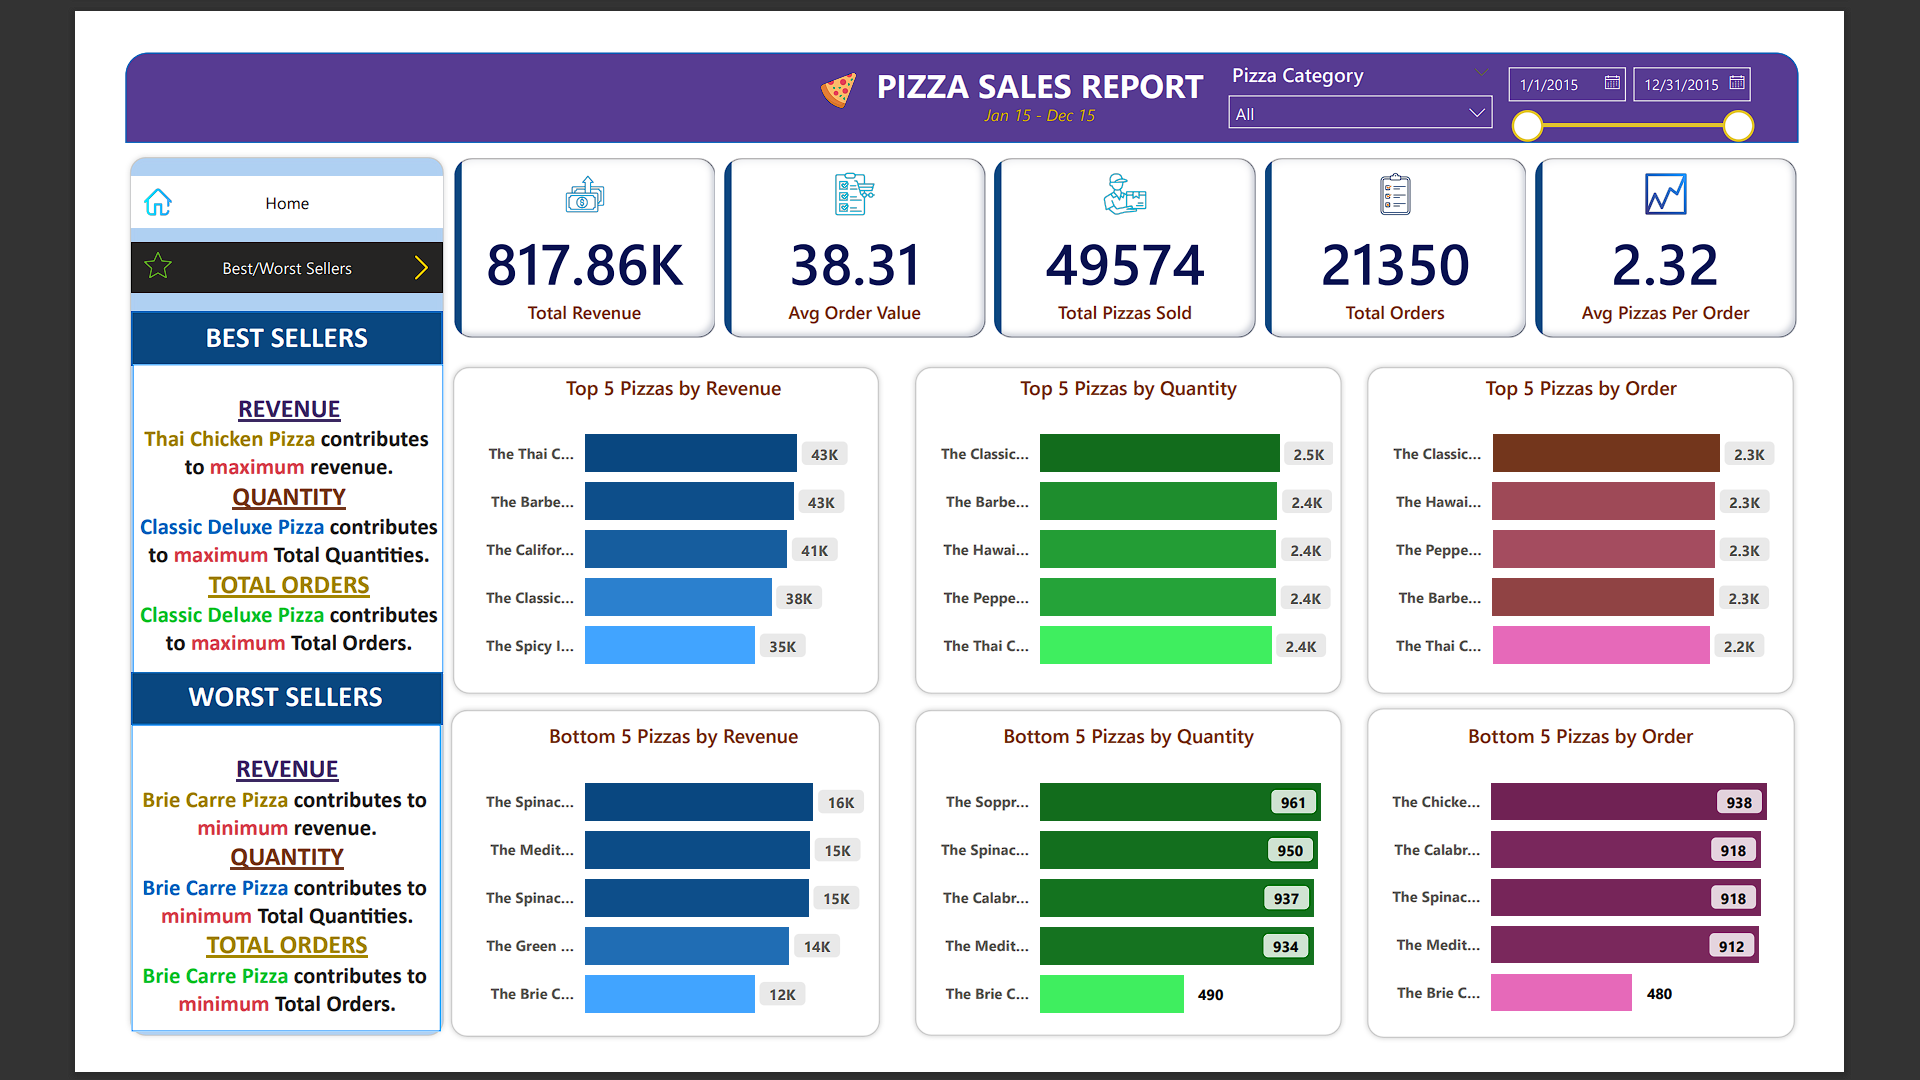

The dashboard page shown, as its layout file describes it:
{"tool":"powerbi","page":{"name":"Best/Worst Sellers","canvas":[1400,820],"ordinal":1},"visuals":[{"type":"shape","box":[18.3,91.7,263.3,726.7],"z":0},{"type":"cardVisual","fields":{"Data":["pizza_sales.Total Revenue","pizza_sales.Avg Order Value","pizza_sales.Total Pizzas Sold","pizza_sales.Total Orders","pizza_sales.Avg Pizzas Per Order"]},"box":[282.1,92.3,1111.1,155.6],"z":1000},{"type":"shape","box":[18,10,1368,74],"z":2000},{"type":"textbox","box":[620.7,12.8,290.7,48.4],"z":3000},{"type":"textbox","box":[705.1,47.2,121.9,35.9],"z":4000},{"type":"image","box":[580.1,20.6,40.6,40.6],"z":5000},{"type":"shape","box":[282,264,356,274],"z":6000},{"type":"shape","box":[23.3,222.2,253.3,43.3],"z":7000},{"type":"textbox","box":[22.9,222.9,254.3,44.3],"z":8000},{"type":"textbox","box":[23.8,265,253.8,252.5],"z":9000},{"type":"shape","box":[23.3,516.7,253.3,43.3],"z":10000},{"type":"textbox","box":[22.2,517.2,253.3,42.2],"z":11000},{"type":"slicer","fields":{"Values":["pizza_sales.pizza_category"]},"box":[910,12,236,72],"z":12000},{"type":"slicer","fields":{"Values":["pizza_sales.order_date"]},"box":[1136,12,222,80],"z":13000},{"type":"shape","box":[281.4,544.3,357.1,274.3],"z":14000},{"type":"shape","box":[660,264,356,274],"z":15000},{"type":"shape","box":[1030,264,356,274],"z":16000},{"type":"shape","box":[660,544,356,274],"z":17000},{"type":"shape","box":[1030,543.3,356.7,276.7],"z":18000},{"type":"barChart","title":"Top 5 Pizzas by Revenue","fields":{"Category":["pizza_sales.pizza_name"],"Y":["pizza_sales.Total Revenue"]},"box":[295,273.3,343.3,258.3],"z":19000},{"type":"barChart","title":"Bottom 5 Pizzas by Quantity","fields":{"Category":["pizza_sales.pizza_name"],"Y":["pizza_sales.Total Pizzas Sold"]},"box":[666.7,558.3,343.3,258.3],"z":20000},{"type":"barChart","title":"Bottom 5 Pizzas by Revenue","fields":{"Category":["pizza_sales.pizza_name"],"Y":["pizza_sales.Total Revenue"]},"box":[295,558.3,343.3,258.3],"z":21000},{"type":"barChart","title":"Top 5 Pizzas by Quantity","fields":{"Category":["pizza_sales.pizza_name"],"Y":["pizza_sales.Total Pizzas Sold"]},"box":[666.7,273.3,343.3,258.3],"z":22000},{"type":"barChart","title":"Top 5 Pizzas by Order","fields":{"Category":["pizza_sales.pizza_name"],"Y":["pizza_sales.Total Orders"]},"box":[1036.7,273.3,343.3,258.3],"z":23000},{"type":"barChart","title":"Bottom 5 Pizzas by Order","fields":{"Category":["pizza_sales.pizza_name"],"Y":["pizza_sales.Total Orders"]},"box":[1036,558,344,258],"z":24000},{"type":"pageNavigator","box":[22.5,111.2,255,41.2],"z":25000},{"type":"image","box":[28.6,115,32.1,33.6],"z":27000},{"type":"pageNavigator","box":[22.5,165,255,41.2],"z":28000},{"type":"image","box":[29.3,167.1,32.1,33.6],"z":29000},{"type":"textbox","box":[22.9,560,252.9,251.4],"z":30000},{"type":"image","box":[245.5,169.1,30,32.7],"z":37000}]}

Visuals, with their boxes on the page's 1400x820 design canvas (x1, y1, x2, y2). These are canvas units, not pixel positions in the 1920x1080 screenshot, which may show the page scaled, cropped or inside an application window:
shape: Rect(18, 92, 282, 818)
cardVisual - pizza_sales.Total Revenue x pizza_sales.Avg Order Value: Rect(282, 92, 1393, 248)
shape: Rect(18, 10, 1386, 84)
textbox: Rect(621, 13, 911, 61)
textbox: Rect(705, 47, 827, 83)
image: Rect(580, 21, 621, 61)
shape: Rect(282, 264, 638, 538)
shape: Rect(23, 222, 277, 266)
textbox: Rect(23, 223, 277, 267)
textbox: Rect(24, 265, 278, 518)
shape: Rect(23, 517, 277, 560)
textbox: Rect(22, 517, 276, 559)
slicer - pizza_sales.pizza_category: Rect(910, 12, 1146, 84)
slicer - pizza_sales.order_date: Rect(1136, 12, 1358, 92)
shape: Rect(281, 544, 638, 819)
shape: Rect(660, 264, 1016, 538)
shape: Rect(1030, 264, 1386, 538)
shape: Rect(660, 544, 1016, 818)
shape: Rect(1030, 543, 1387, 820)
"Top 5 Pizzas by Revenue" barChart: Rect(295, 273, 638, 532)
"Bottom 5 Pizzas by Quantity" barChart: Rect(667, 558, 1010, 817)
"Bottom 5 Pizzas by Revenue" barChart: Rect(295, 558, 638, 817)
"Top 5 Pizzas by Quantity" barChart: Rect(667, 273, 1010, 532)
"Top 5 Pizzas by Order" barChart: Rect(1037, 273, 1380, 532)
"Bottom 5 Pizzas by Order" barChart: Rect(1036, 558, 1380, 816)
pageNavigator: Rect(22, 111, 278, 152)
image: Rect(29, 115, 61, 149)
pageNavigator: Rect(22, 165, 278, 206)
image: Rect(29, 167, 61, 201)
textbox: Rect(23, 560, 276, 811)
image: Rect(246, 169, 276, 202)
